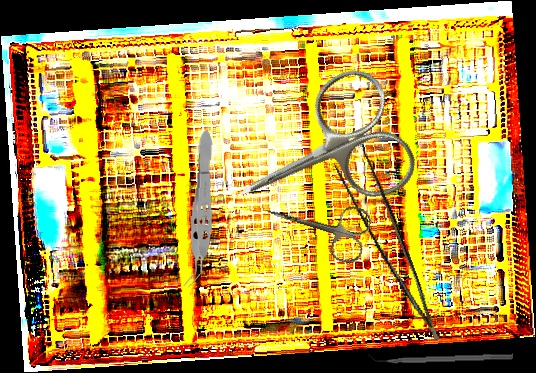Chopper: (367, 345, 514, 365)
Iris Scissors: (211, 60, 425, 252), (256, 181, 375, 268)
Tissue Forceps: (331, 143, 441, 353), (182, 129, 219, 290)
